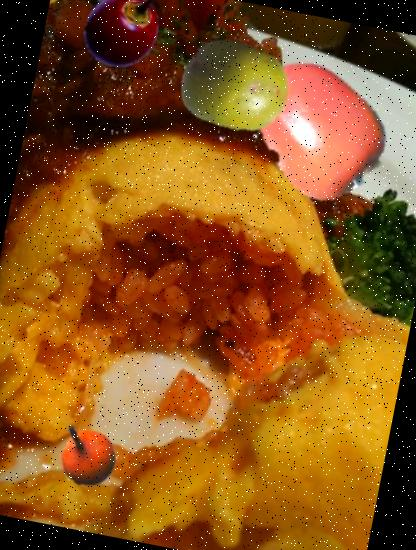Granadilla: (50, 420, 122, 494)
Kaki: (234, 40, 404, 210)
Pomelo: (170, 22, 299, 151)
Tamarillo: (73, 0, 171, 75)
